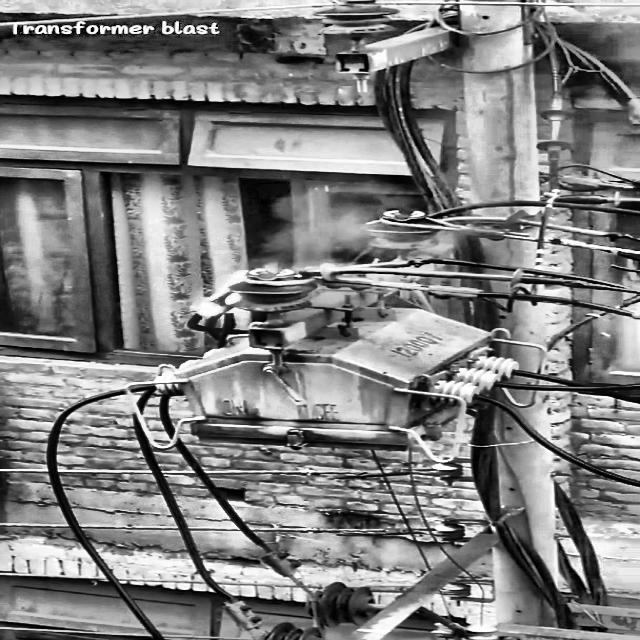Fire: (179, 262, 277, 316)
